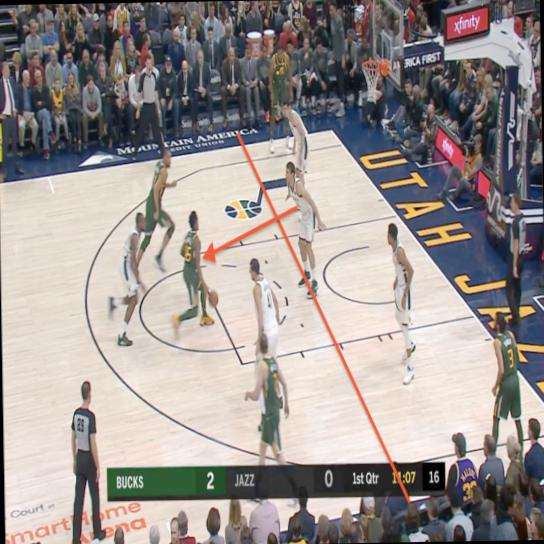basketball-hoop: (361, 56, 384, 104)
